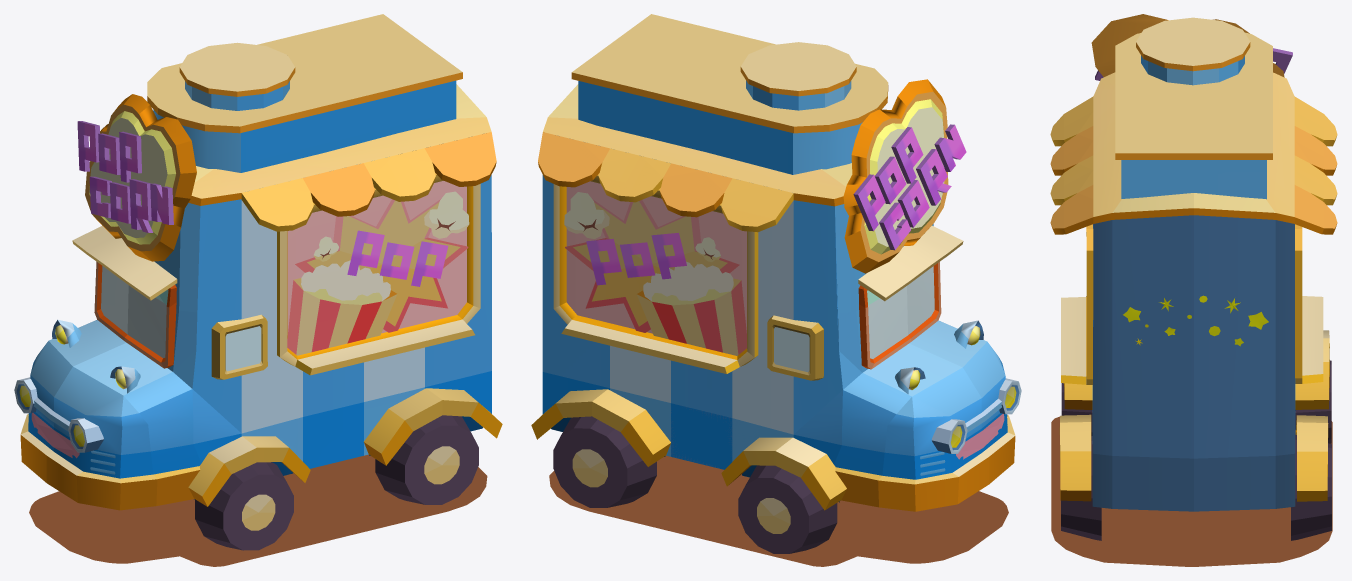
The model's file is barrier_009.fbx.
The picture shows the model from 3 angles, left to right: view 1: azimuth 30°, elevation 25°; view 2: azimuth 150°, elevation 25°; view 3: azimuth 270°, elevation 25°; orthographic projection.
Visible parts, largest first — view 1: barrier_0024; view 2: barrier_0024; view 3: barrier_0024.
Boxes of the visible parts, x1=… form: barrier_0024: x1=14, y1=14, x2=502, y2=566; barrier_0024: x1=531, y1=14, x2=1021, y2=566; barrier_0024: x1=1050, y1=14, x2=1337, y2=566.
Bounding box in the file's own units: 296 × 303 × 184.
